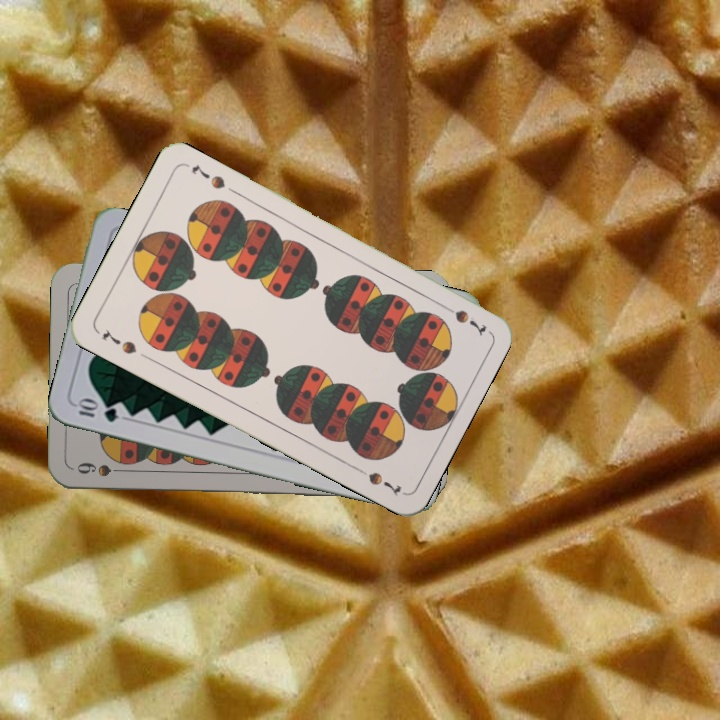G10: (72, 396, 121, 425)
S7: (436, 299, 489, 339), (98, 326, 139, 357)
S9: (73, 458, 131, 478)
